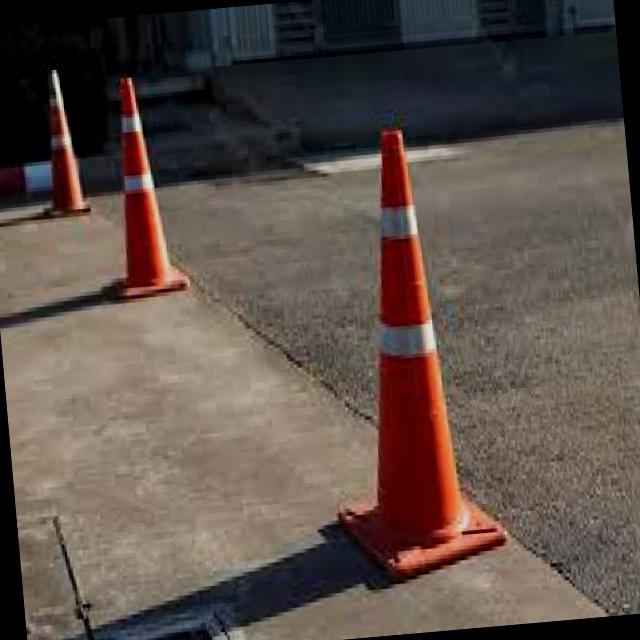Cone: (288, 109, 510, 590), (86, 68, 188, 298), (22, 59, 96, 220)
